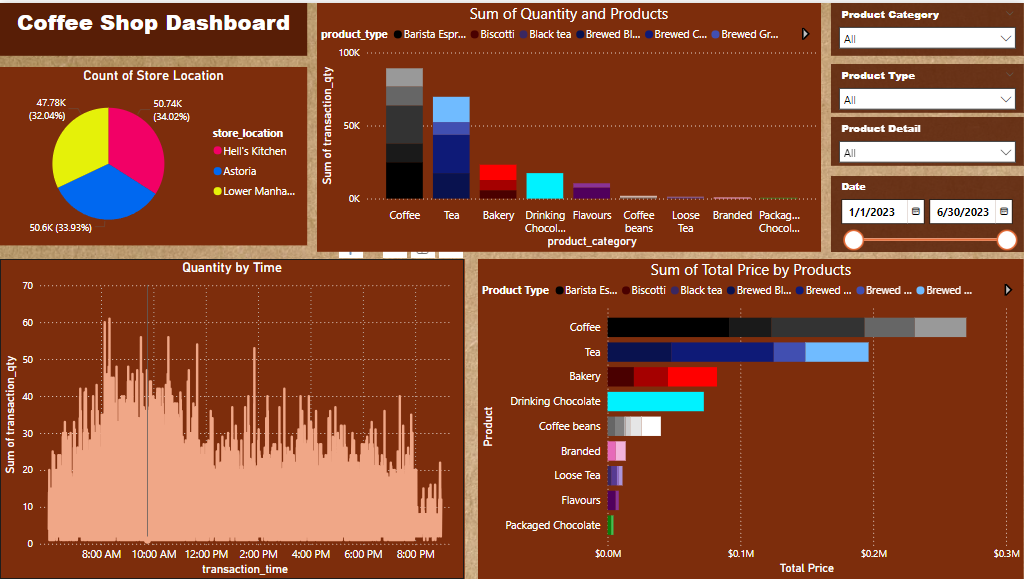

Layout of this report page (visuals, bound fields, positions):
{"tool":"powerbi","page":{"name":"Page 1","canvas":[1280,720],"ordinal":0},"visuals":[{"type":"textbox","box":[0,0,384,66.3],"z":0},{"type":"pieChart","title":"Count of Store Location","fields":{"Y":["CountNonNull(Coffee_Shop_Sales - Transactions.store_location)"],"Category":["Coffee_Shop_Sales - Transactions.store_location"]},"box":[0,80,384,222.9],"z":1000},{"type":"lineChart","title":"Quantity by Time","fields":{"Category":["Coffee_Shop_Sales - Transactions.transaction_time"],"Y":["Sum(Coffee_Shop_Sales - Transactions.transaction_qty)"]},"box":[0,320,580.6,400],"z":2000},{"type":"slicer","fields":{"Values":["Coffee_Shop_Sales - Transactions.transaction_date"]},"box":[1038.9,216,241.1,94.9],"z":3000},{"type":"actionButton","box":[1180,32.5,100,8.8],"z":4000},{"type":"slicer","fields":{"Values":["Coffee_Shop_Sales - Transactions.product_category"]},"box":[1038.9,0,241.1,66.3],"z":5000},{"type":"slicer","fields":{"Values":["Coffee_Shop_Sales - Transactions.product_type"]},"box":[1038.9,76.6,241.1,60.6],"z":6000},{"type":"slicer","fields":{"Values":["Coffee_Shop_Sales - Transactions.product_detail"]},"box":[1038.9,142.9,241.1,60.6],"z":7000},{"type":"barChart","title":"Sum of Total Price by Products","fields":{"Category":["Coffee_Shop_Sales - Transactions.product_category"],"Y":["Sum(Coffee_Shop_Sales - Transactions.total_price)"],"Series":["Coffee_Shop_Sales - Transactions.product_type"]},"box":[597.7,320,682.3,400],"z":8000},{"type":"columnChart","title":"Sum of Quantity and Products","fields":{"Category":["Coffee_Shop_Sales - Transactions.product_category"],"Y":["Sum(Coffee_Shop_Sales - Transactions.transaction_qty)"],"Series":["Coffee_Shop_Sales - Transactions.product_type"]},"box":[396.6,0,629.7,310.9],"z":9000}]}

Visuals, with their boxes in screenshot pixels (x1, y1, x2, y2), scaled from the page's 1280x720 canvas onto the 1024x579 screenshot:
textbox: x1=0, y1=0, x2=307, y2=53
"Count of Store Location" pieChart: x1=0, y1=64, x2=307, y2=244
"Quantity by Time" lineChart: x1=0, y1=257, x2=464, y2=578
slicer - Coffee_Shop_Sales - Transactions.transaction_date: x1=831, y1=174, x2=1023, y2=250
actionButton: x1=944, y1=26, x2=1023, y2=33
slicer - Coffee_Shop_Sales - Transactions.product_category: x1=831, y1=0, x2=1023, y2=53
slicer - Coffee_Shop_Sales - Transactions.product_type: x1=831, y1=62, x2=1023, y2=110
slicer - Coffee_Shop_Sales - Transactions.product_detail: x1=831, y1=115, x2=1023, y2=164
"Sum of Total Price by Products" barChart: x1=478, y1=257, x2=1023, y2=578
"Sum of Quantity and Products" columnChart: x1=317, y1=0, x2=821, y2=250
